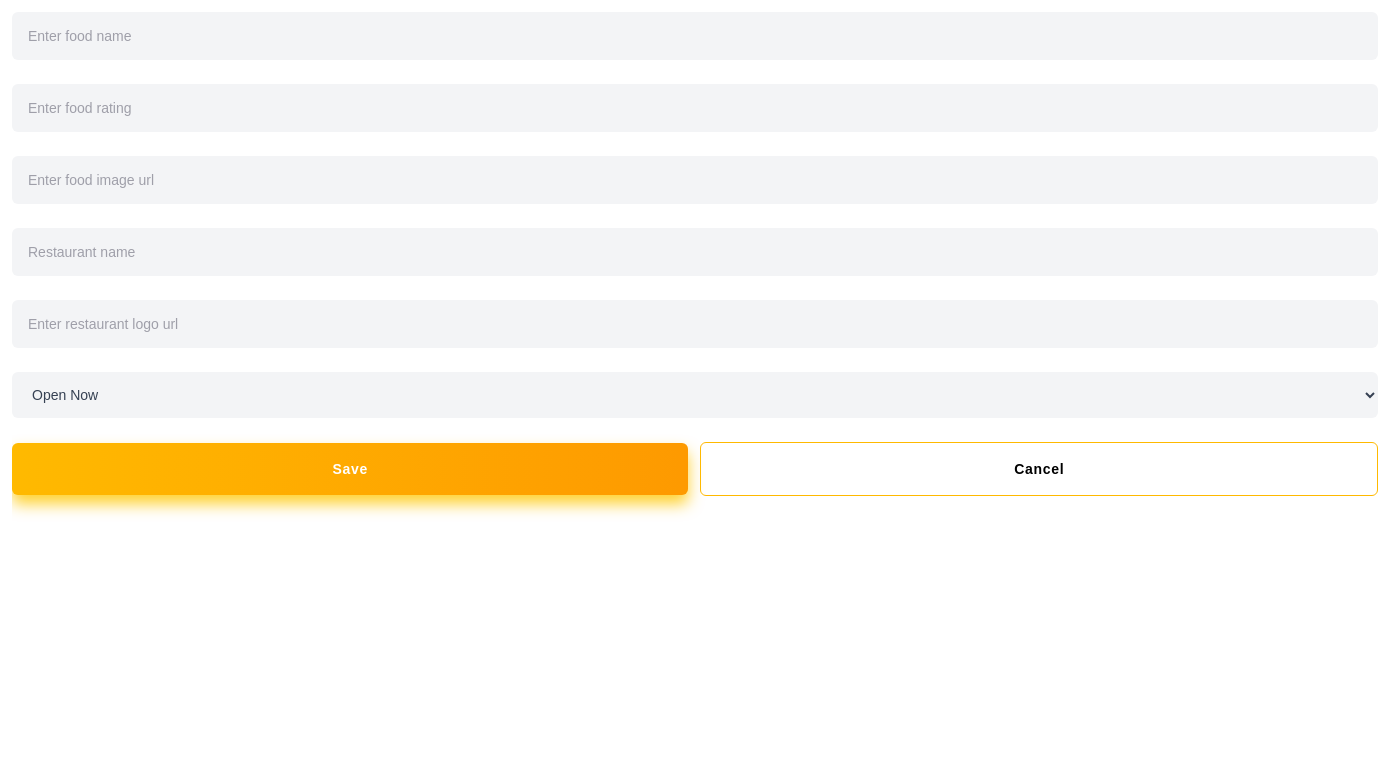
Scenario: FoodForm › shows validation errors for empty required fields
Click the button "Save" at (350, 469), box x1=12 y1=443 x2=688 y2=495
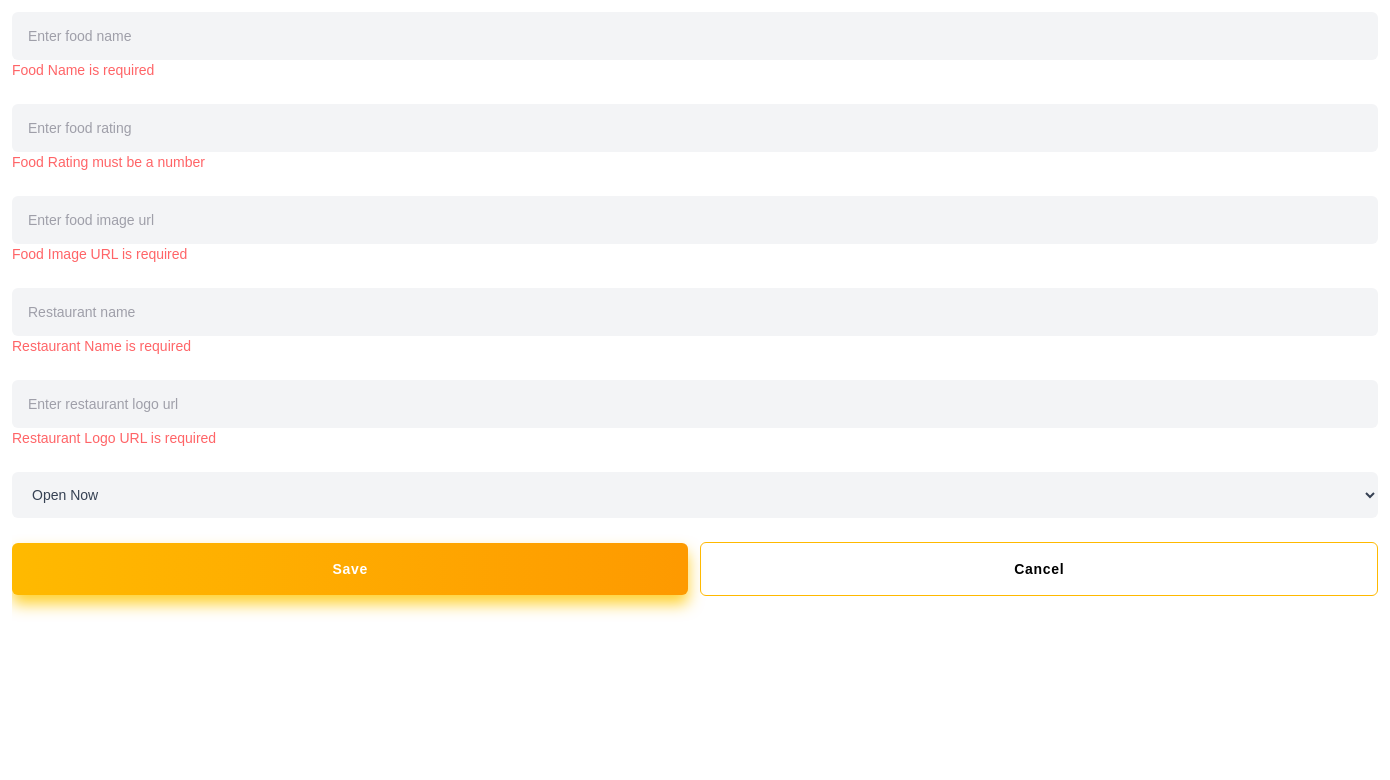
Expected: the text "Food Name is required" is shown, x1=12 y1=62 x2=154 y2=78
Expected: the text "Food Rating must be a number" is shown, x1=12 y1=154 x2=205 y2=170
Expected: the text "Food Image URL is required" is shown, x1=12 y1=246 x2=187 y2=262
